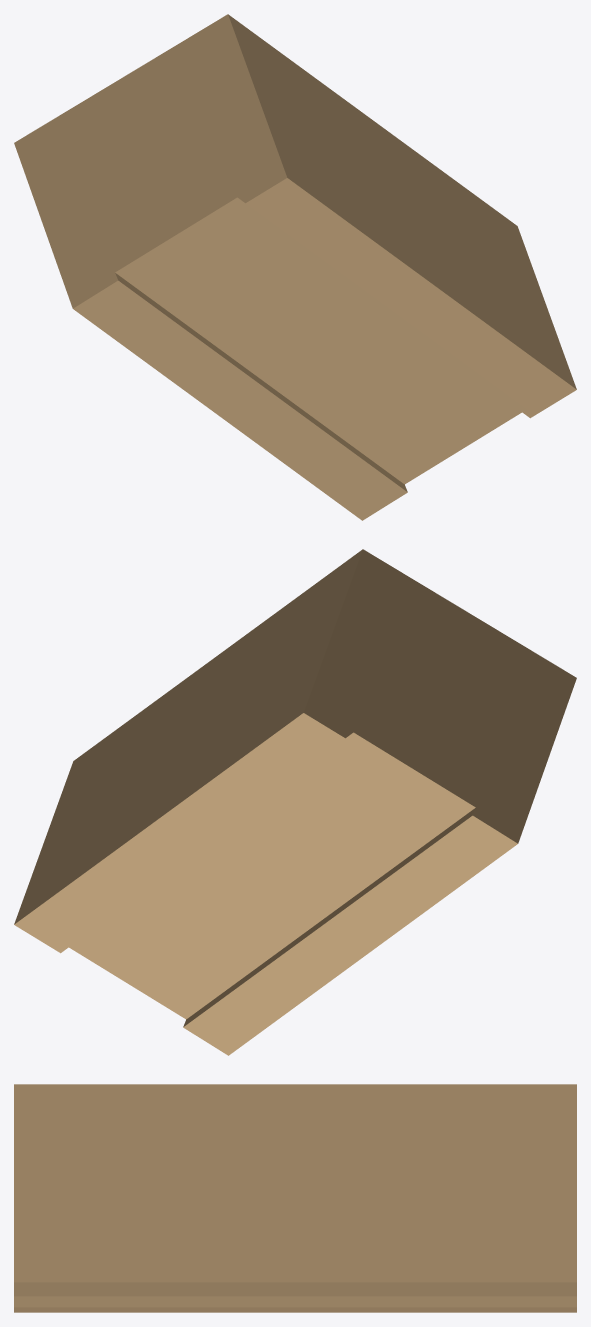
3 renders of one model, top to bottom at view 1: azimuth 30°, elevation 25°; view 2: azimuth 150°, elevation 25°; view 3: azimuth 270°, elevation 25°, orthographic. The views are drawn at different scales.
Visible parts, largest first — view 1: 0_0_1_1_3_2_3_3_1; view 2: 0_0_1_1_3_2_3_3_1; view 3: 0_0_1_1_3_2_3_3_1.
Part boxes in pixels (left/top/right/bottom): 0_0_1_1_3_2_3_3_1: left=14, top=14, right=576, bottom=520; 0_0_1_1_3_2_3_3_1: left=14, top=549, right=576, bottom=1055; 0_0_1_1_3_2_3_3_1: left=14, top=1084, right=576, bottom=1312.
Size of the model in its own units: 11.44 by 10.27 by 21.
